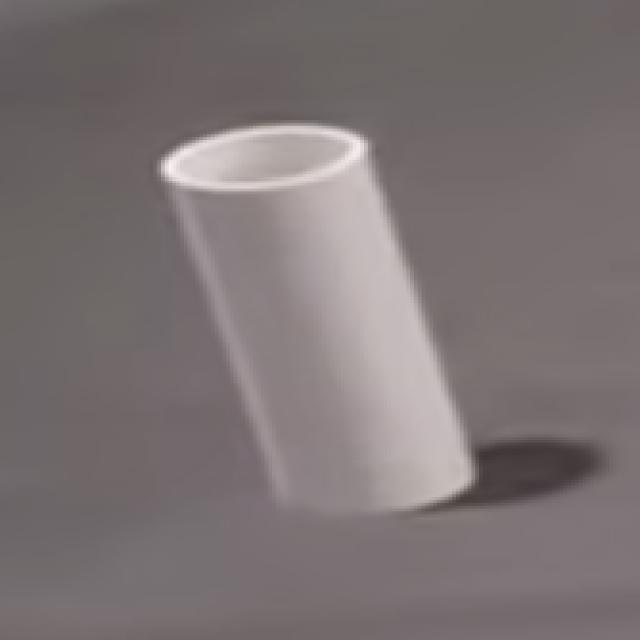Coral: (154, 124, 478, 517)
